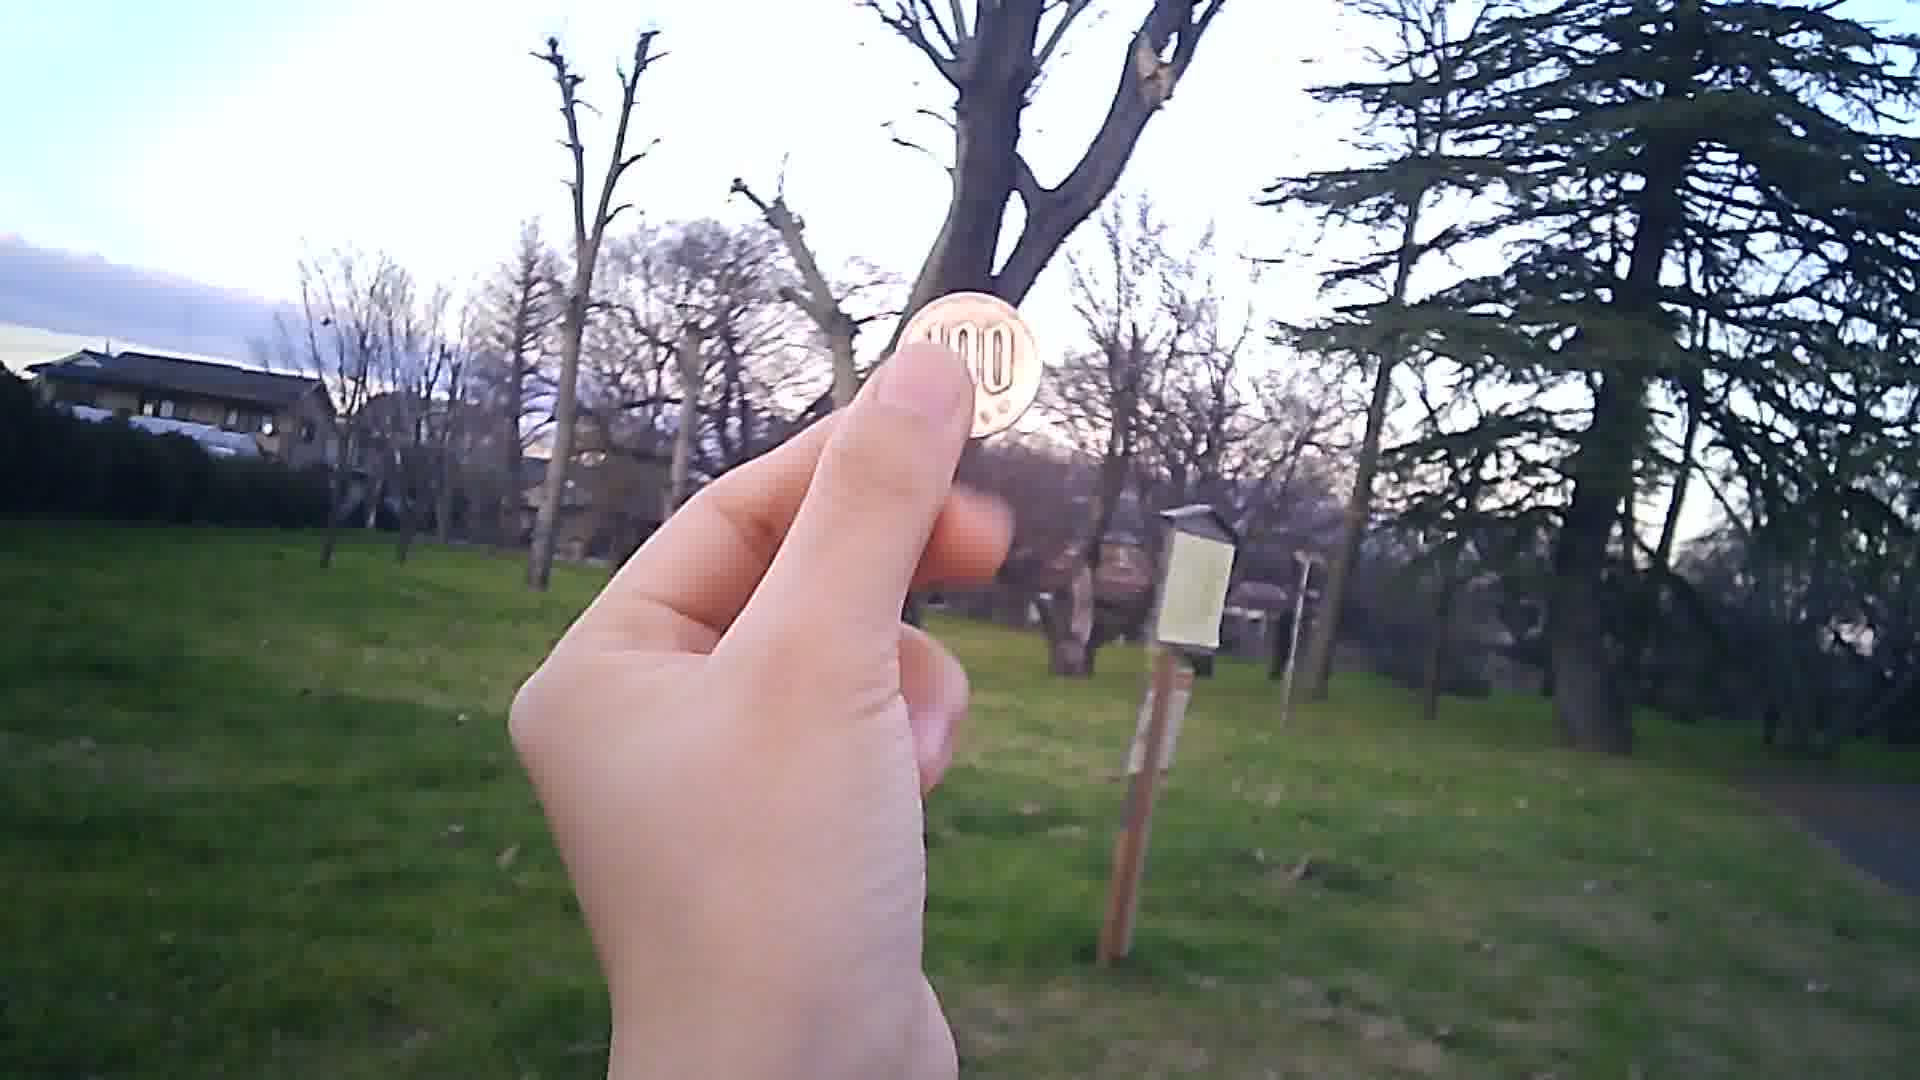100 Yen: (895, 286, 1055, 462)
